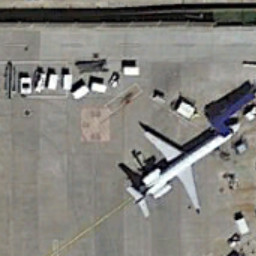Airplane: (109, 104, 243, 220)
